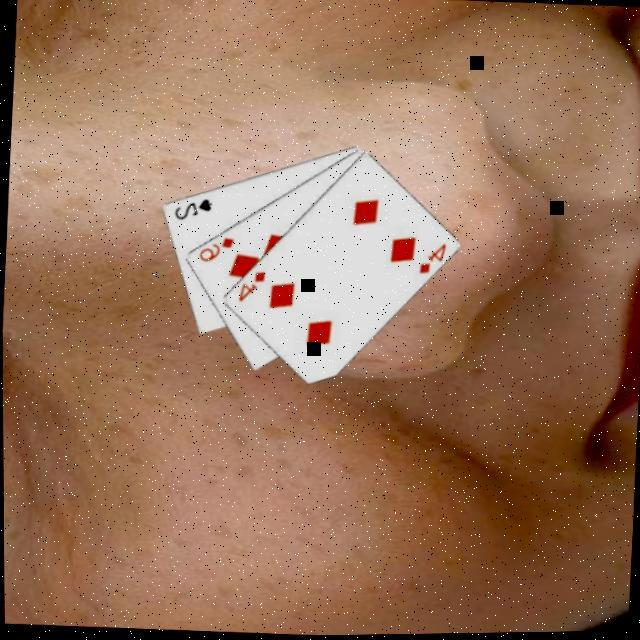2S: (168, 193, 212, 224)
4D: (412, 239, 447, 279), (232, 266, 266, 306)
9D: (192, 232, 235, 266)
